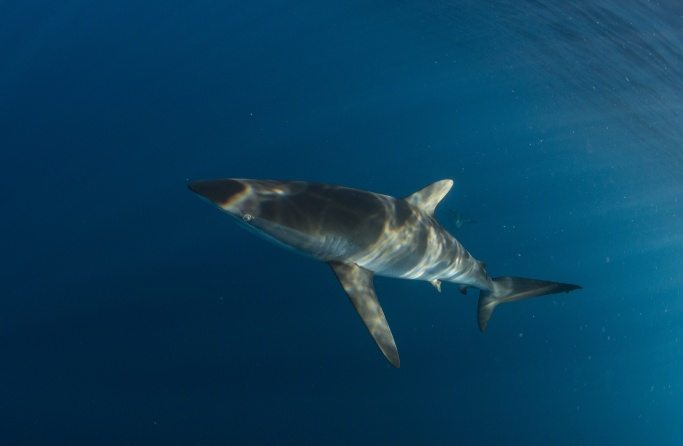Sedoso: (175, 164, 597, 380)
